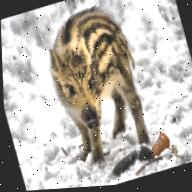boar: (16, 0, 168, 187)
